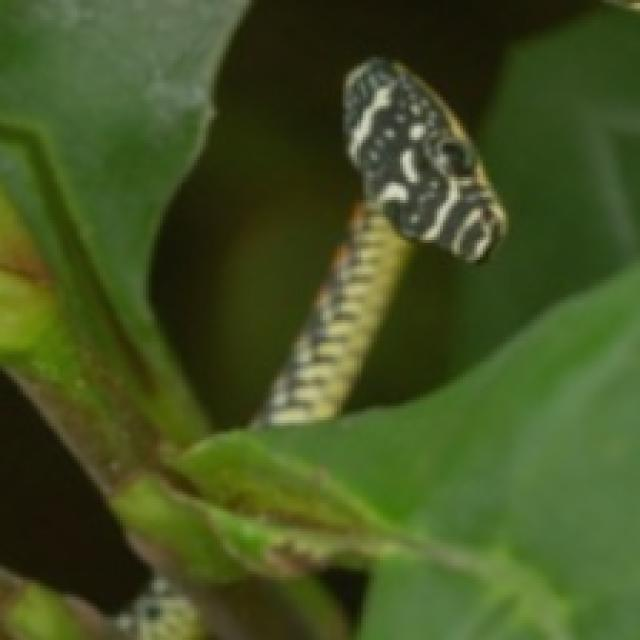paradise tree snake: (254, 57, 503, 423), (114, 434, 451, 637)
